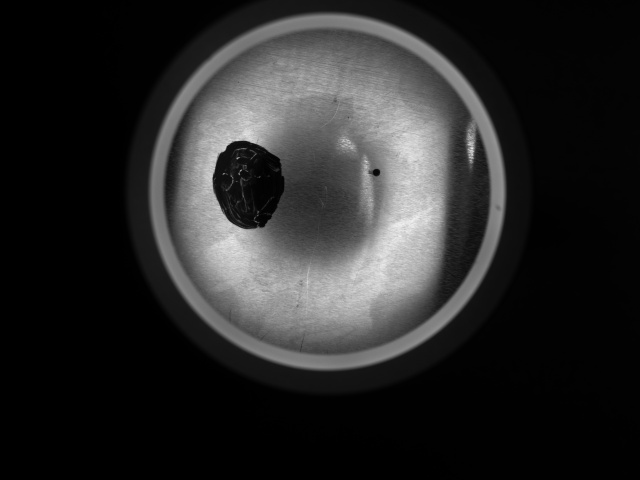zang_wu: (208, 138, 290, 233)
zhen_kong: (370, 165, 382, 179)
